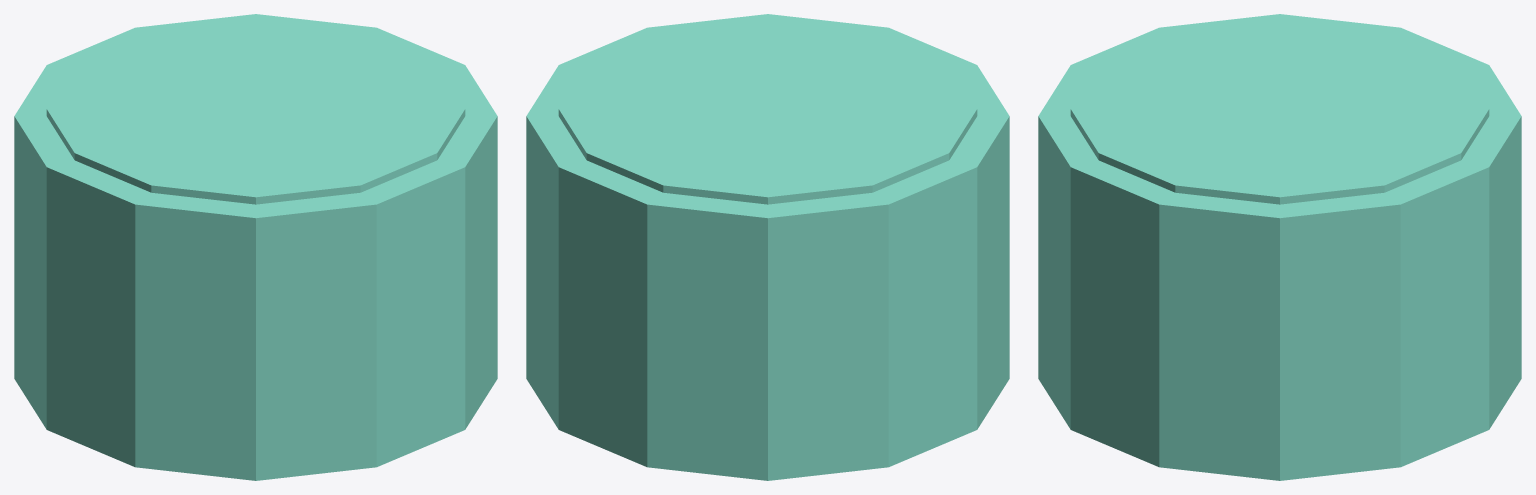
The picture shows the model from 3 angles, left to right: view 1: azimuth 30°, elevation 25°; view 2: azimuth 150°, elevation 25°; view 3: azimuth 270°, elevation 25°; orthographic projection.
Visible parts, largest first — view 1: Water tub, Water surface; view 2: Water tub, Water surface; view 3: Water tub, Water surface.
Boxes of the visible parts, x1,y1,x2,y2 form: Water tub: (14, 14, 497, 480); Water surface: (46, 20, 465, 204); Water tub: (526, 14, 1009, 480); Water surface: (558, 20, 977, 204); Water tub: (1038, 14, 1521, 480); Water surface: (1070, 20, 1489, 204).
Bounding box in the file's own units: 60 × 37 × 60.
